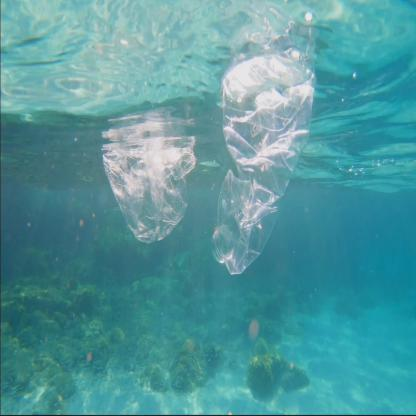Rác: (83, 48, 214, 271), (210, 60, 336, 274)
